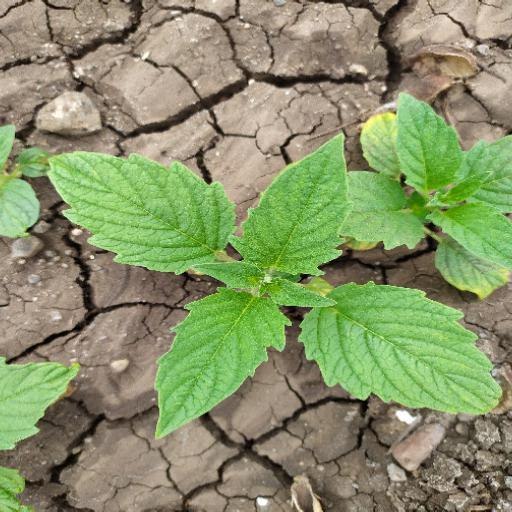crop: (49, 117, 512, 462)
